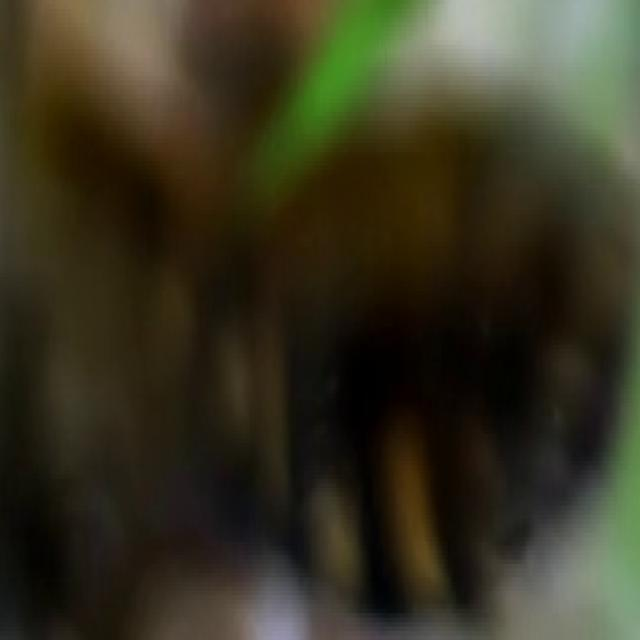fish: (2, 0, 640, 636)
